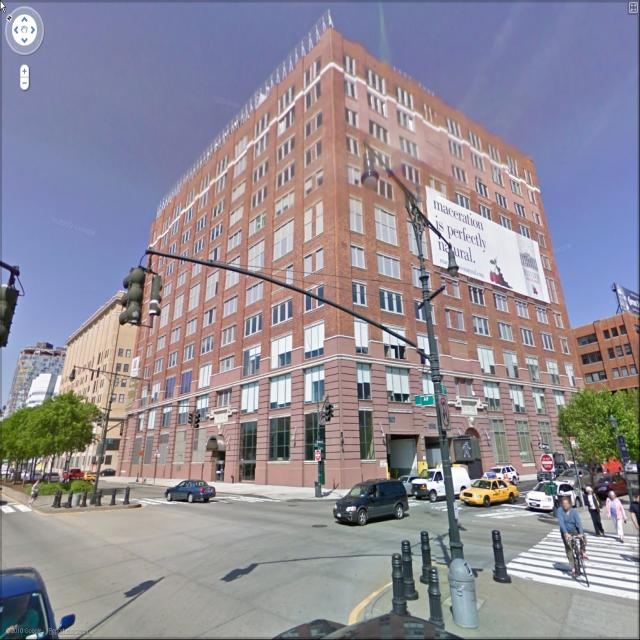b_1: (146, 48, 576, 481), (56, 290, 152, 407), (10, 326, 80, 408)
b_2: (562, 300, 639, 486)
